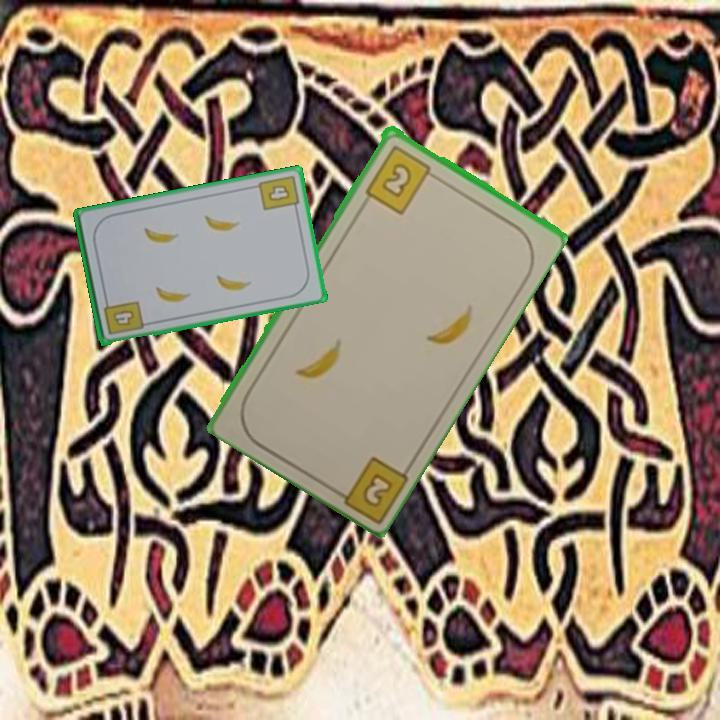2b: (361, 141, 441, 217), (327, 452, 411, 523)
4b: (255, 171, 301, 215), (100, 294, 146, 338)
